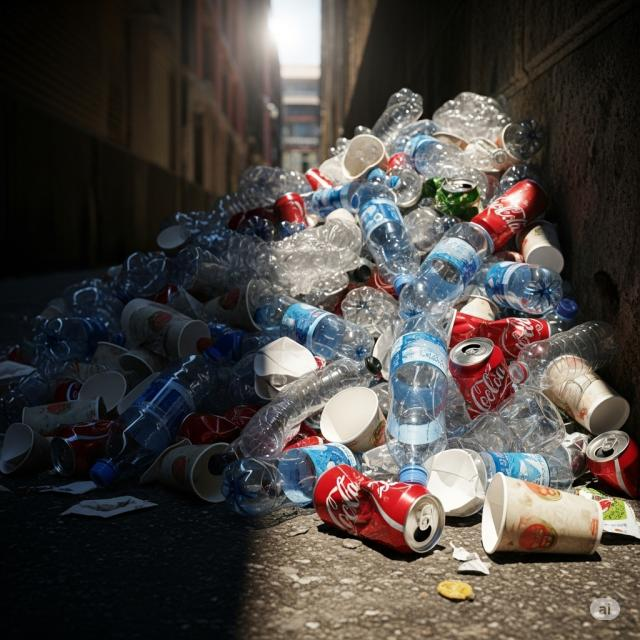aluminum: (314, 462, 448, 556), (472, 177, 552, 258), (450, 336, 515, 418), (451, 308, 549, 354), (46, 418, 117, 478), (584, 428, 640, 499), (273, 193, 309, 228)
paper: (481, 469, 604, 563), (540, 353, 632, 434), (321, 385, 385, 451)
plastic: (93, 350, 217, 487), (227, 442, 369, 518), (386, 330, 452, 490), (399, 220, 489, 330), (257, 291, 376, 371), (510, 319, 627, 388), (354, 178, 418, 293)
